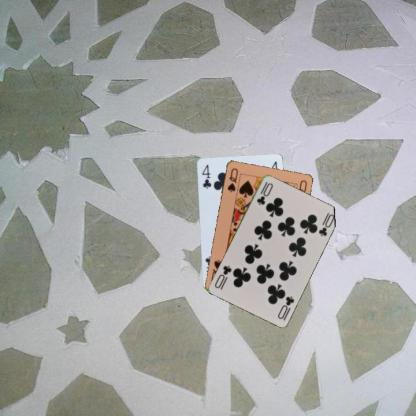10c: (254, 179, 274, 206), (275, 294, 295, 320)
4c: (199, 162, 213, 189)
Qs: (225, 165, 239, 194)
